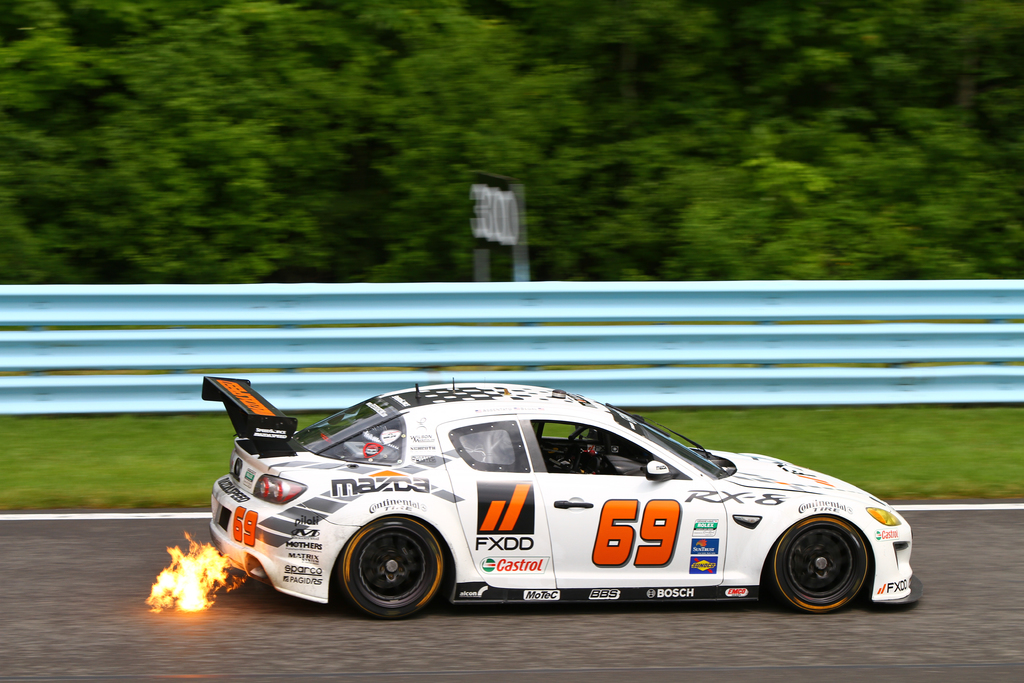Car: (171, 388, 918, 629)
